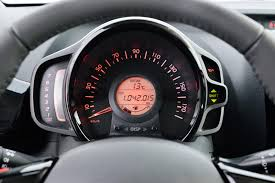Digital_Meter: (117, 90, 155, 104)
